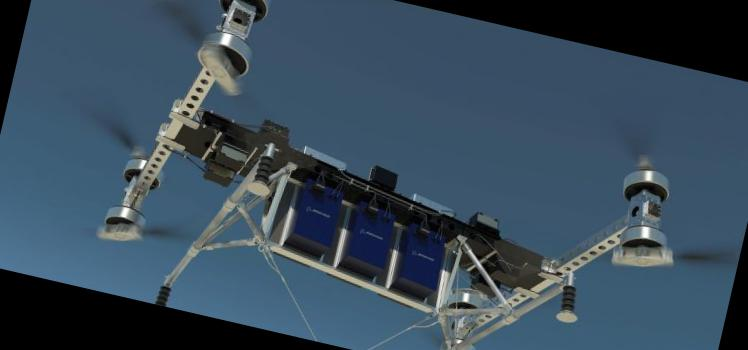drone: (21, 0, 742, 350)
